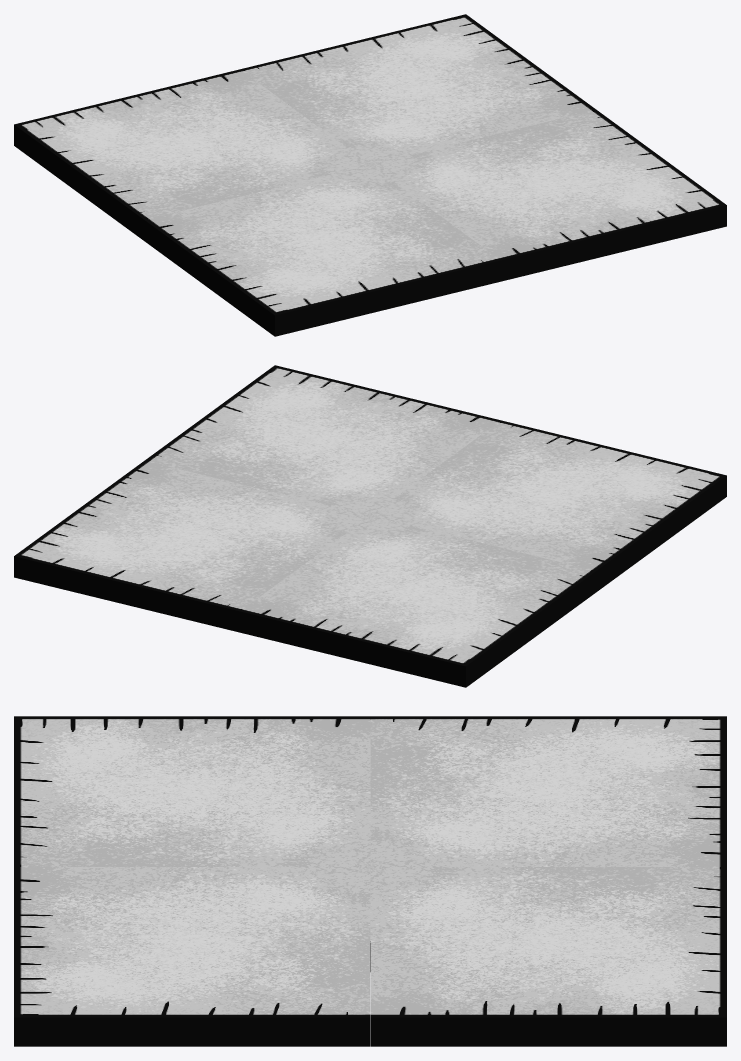
The model's file is Floor New - Animado.fbx.
3 views of the same model, one above another, from view 1: azimuth 30°, elevation 25°; view 2: azimuth 150°, elevation 25°; view 3: azimuth 270°, elevation 25° (orthographic). The views are drawn at different scales.
Parts seen in each view (by area): view 1: Floor; view 2: Floor; view 3: Floor.
Boxes of the visible parts, <box> form: Floor: <box>14,14,726,336</box>; Floor: <box>14,365,726,687</box>; Floor: <box>14,716,726,1046</box>.
Bounding box in the file's own units: 200 × 9 × 200.
Materials: 2 (2 with a texture image).
